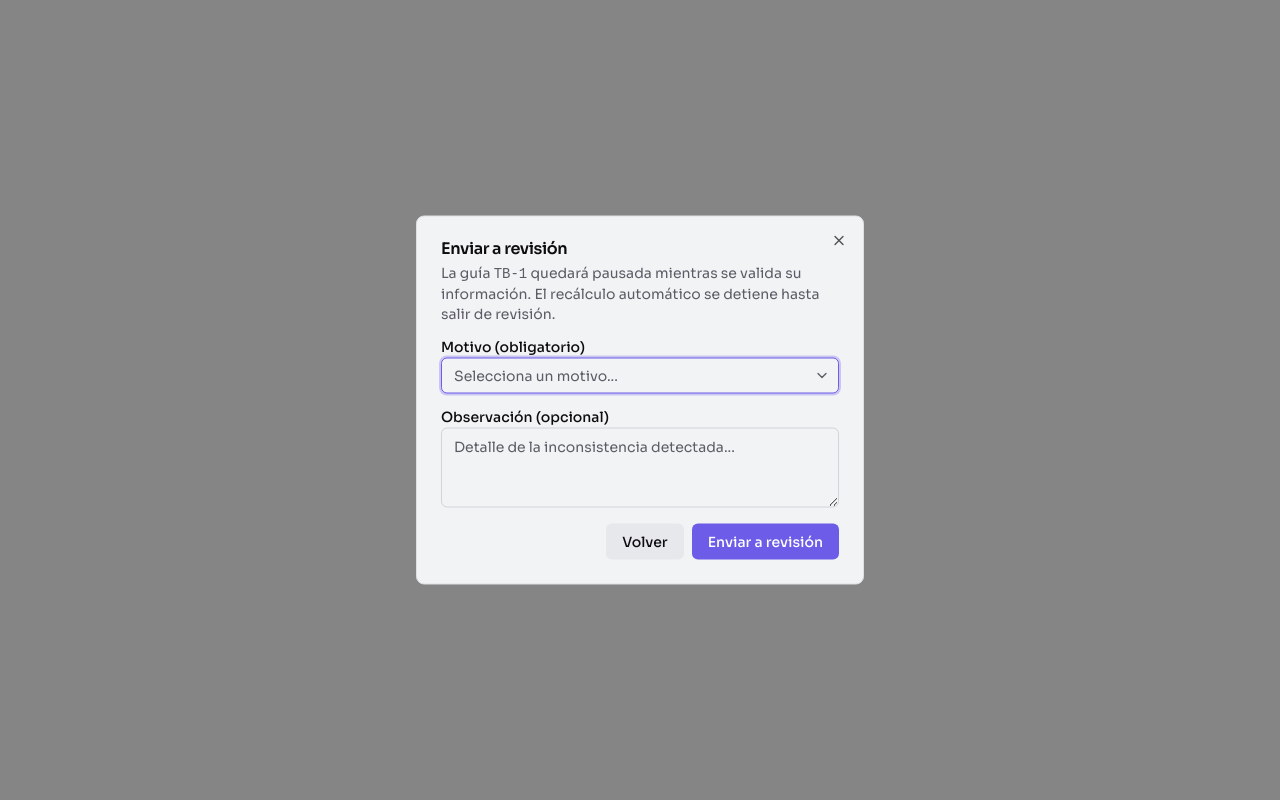
Scenario: EnviarARevisionDialog › "Otro" exige observación
The width and height of the screenshot is (1280, 800).
Click the dropdown at (536, 376), box [441,358,839,394]
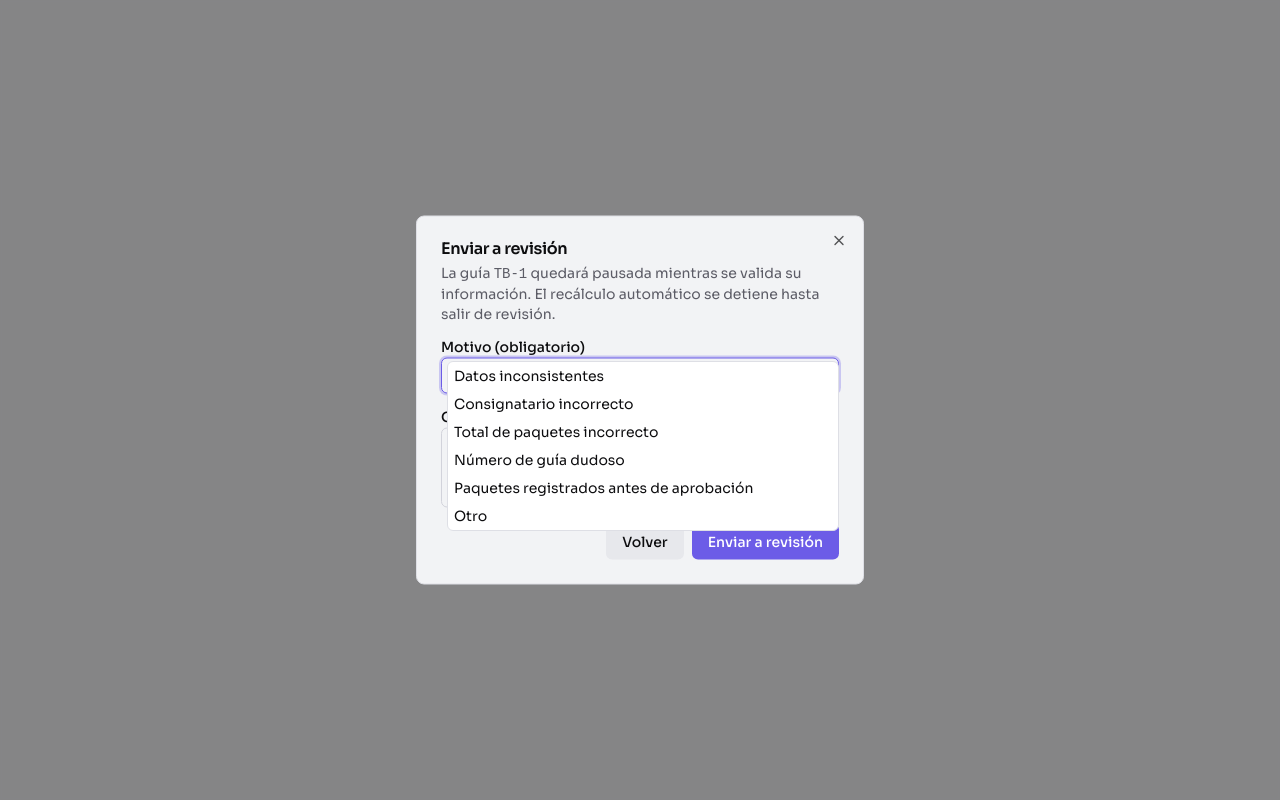
Click the option "Otro" at (471, 516), box [454,506,487,524]
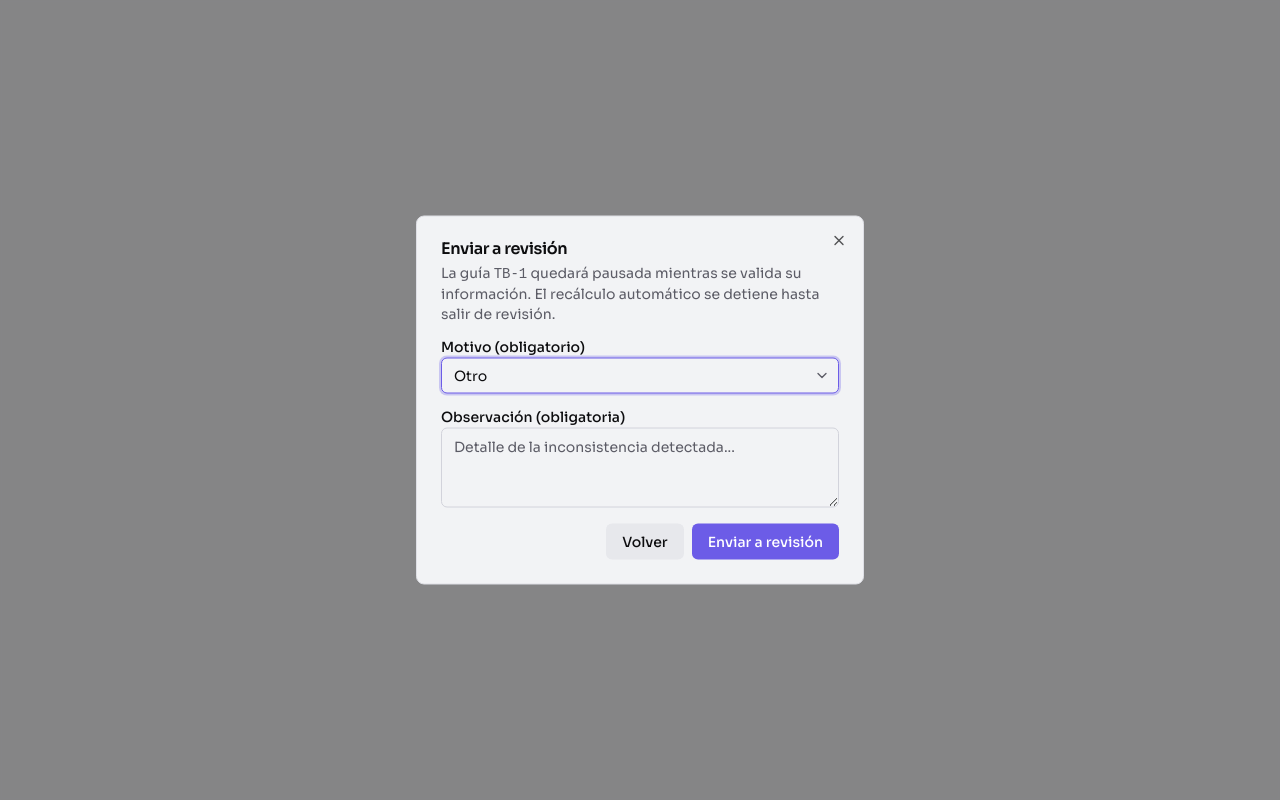
Click the button "Enviar a revisión" at (765, 542), box [692,524,839,560]
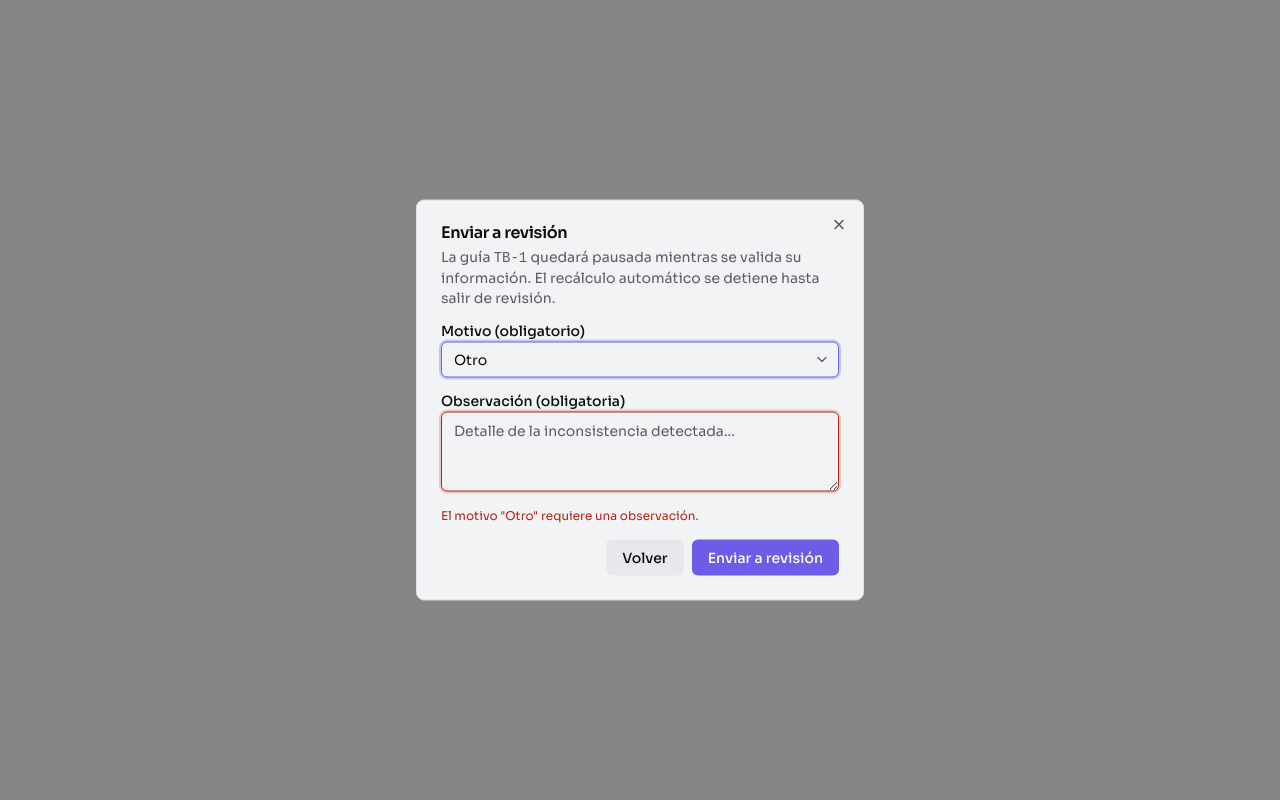
Check: the text "El motivo \"Otro\" requiere una observación." is shown, box [441,508,699,522]
